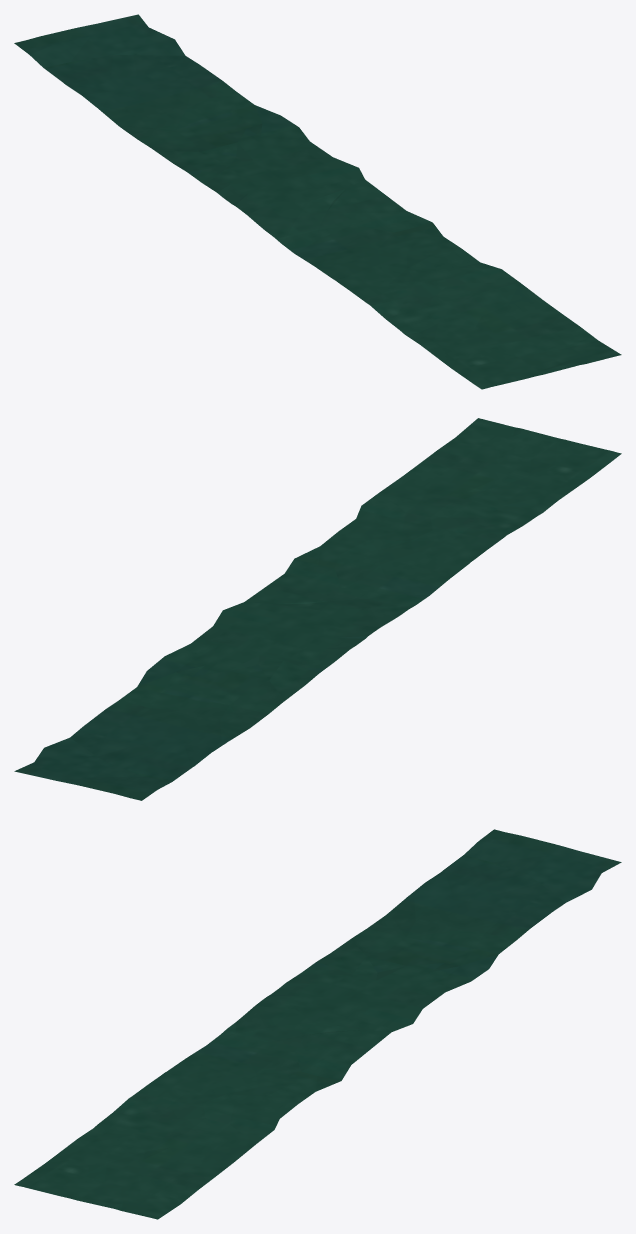
3 views of the same model, one above another, from view 1: azimuth 30°, elevation 25°; view 2: azimuth 150°, elevation 25°; view 3: azimuth 330°, elevation 25° (orthographic). The views are drawn at different scales.
Bounding box in the file's own units: 18.07 × 0.8285 × 104.
Materials: 1 (1 with a texture image).
